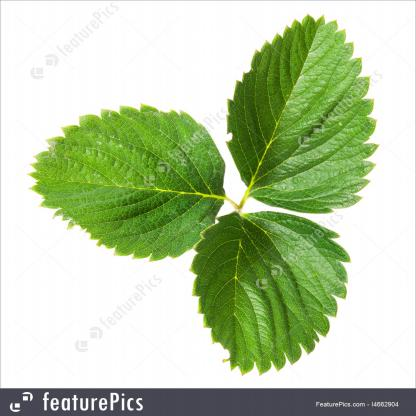Strawberry leaf: (19, 97, 221, 261), (227, 12, 382, 218), (178, 211, 361, 380)
